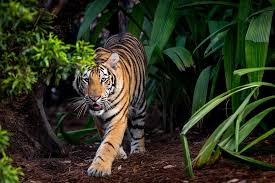tiger: (68, 31, 150, 177)
